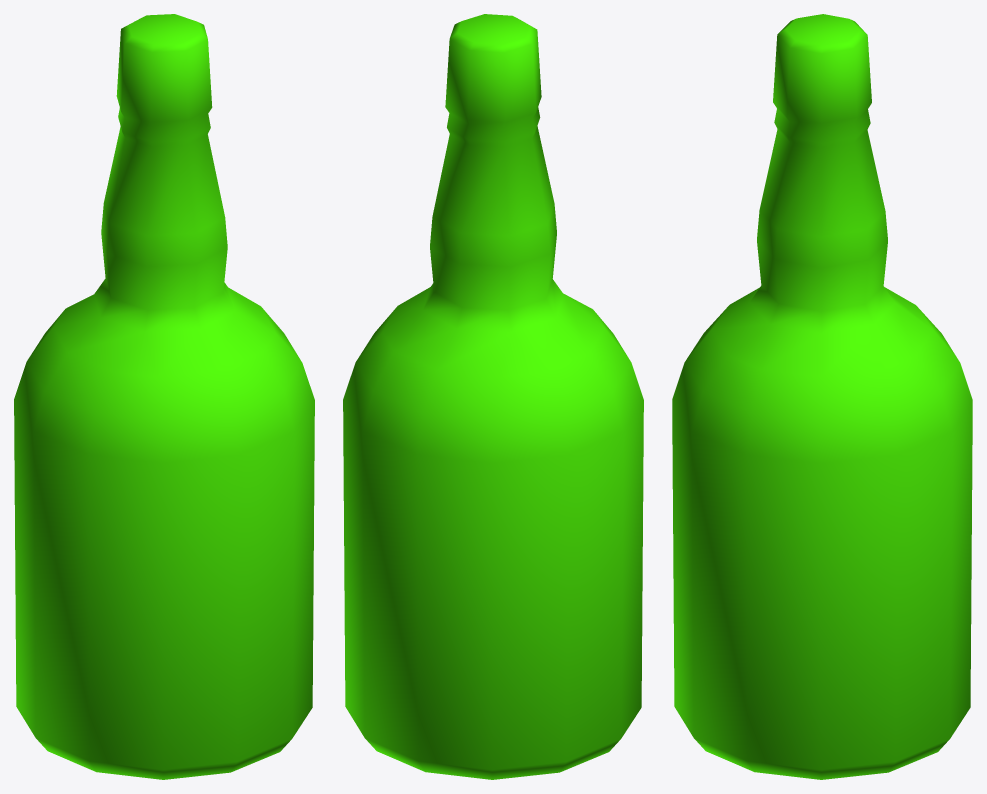
Rendered from 20_whiskey_chivas.gltf.
3 renders of one model, left to right at view 1: azimuth 30°, elevation 25°; view 2: azimuth 150°, elevation 25°; view 3: azimuth 270°, elevation 25°, orthographic.
Visible parts, largest first — view 1: Chivas_Atlas_0; view 2: Chivas_Atlas_0; view 3: Chivas_Atlas_0.
Part boxes in pixels (x1,y1,x2,y2): Chivas_Atlas_0: (14,14,314,779); Chivas_Atlas_0: (343,14,643,779); Chivas_Atlas_0: (672,14,972,779).
Bounding box in the file's own units: 9.56 × 24.34 × 9.56.
1 material, 1 textured.
